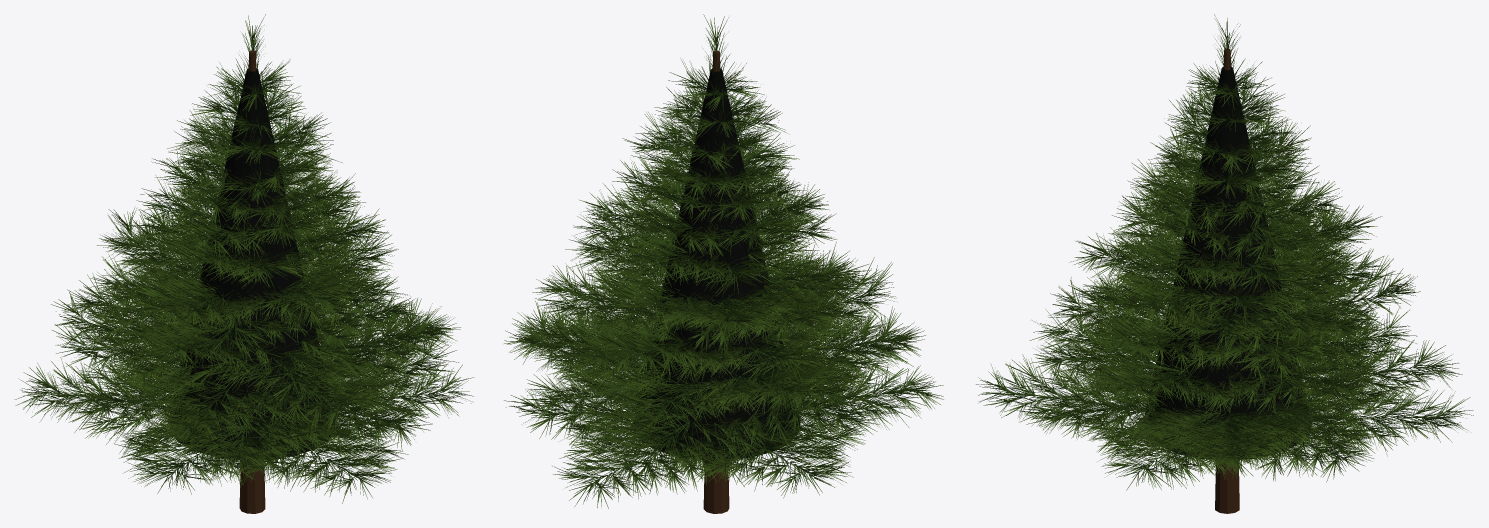
File: pine.glb
3 views of the same model, side by side, from view 1: azimuth 30°, elevation 25°; view 2: azimuth 150°, elevation 25°; view 3: azimuth 270°, elevation 25° (orthographic).
Visible parts, largest first — view 1: needles, core, trunk; view 2: needles, core, trunk; view 3: needles, core, trunk.
Part boxes in pixels (x1=…): needles: x1=14, y1=14, x2=474, y2=503; core: x1=169, y1=68, x2=334, y2=460; trunk: x1=239, y1=50, x2=265, y2=513; needles: x1=504, y1=14, x2=943, y2=508; core: x1=634, y1=68, x2=800, y2=460; trunk: x1=703, y1=50, x2=729, y2=513; needles: x1=976, y1=14, x2=1473, y2=490; core: x1=1144, y1=67, x2=1312, y2=459; trunk: x1=1215, y1=49, x2=1239, y2=513.
Bounding box in the file's own units: 1.54 × 1.88 × 1.73.
